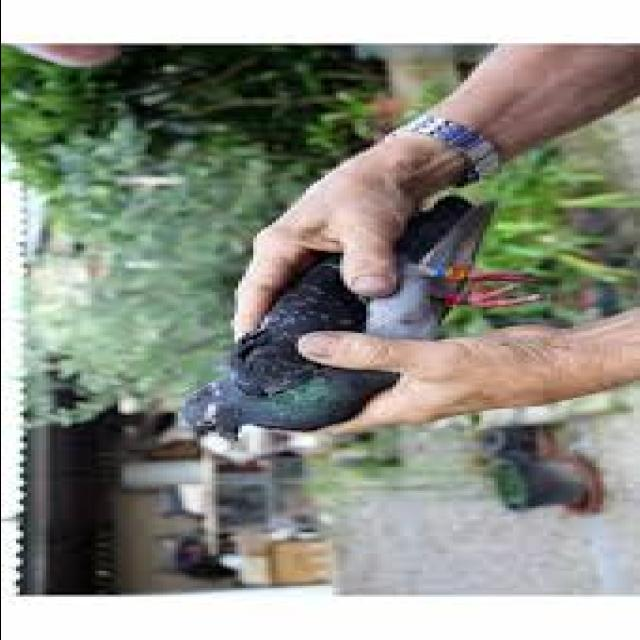pigeon: (166, 188, 468, 458)
